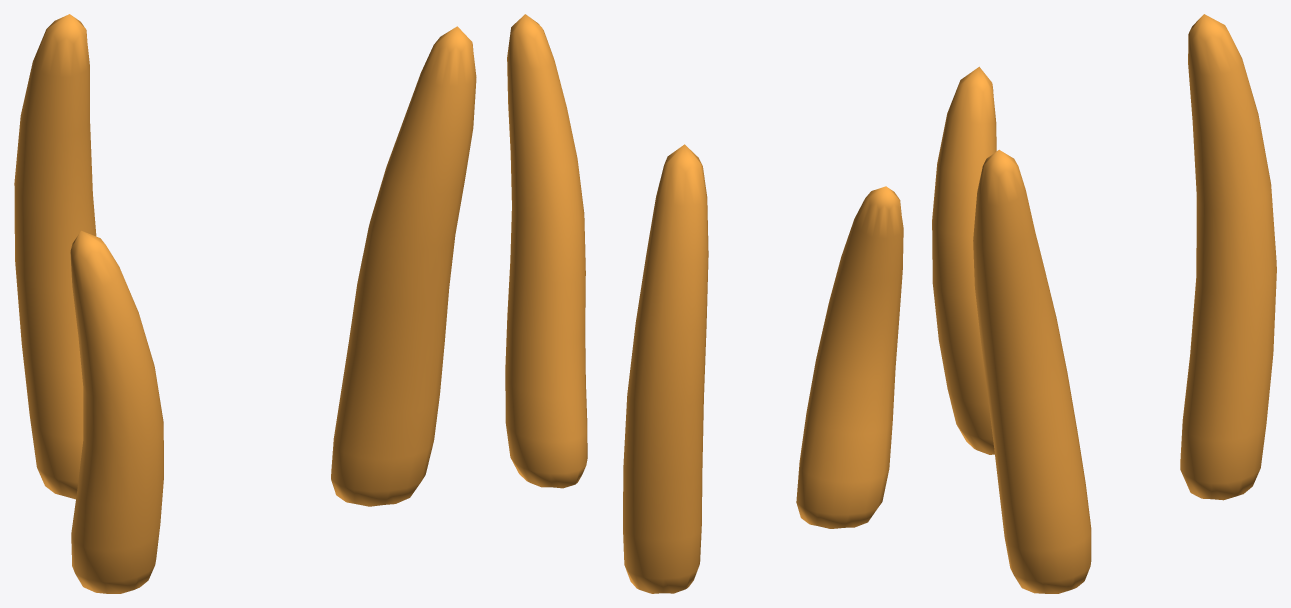
File: Spikes_01.fbx
3 renders of one model, left to right at view 1: azimuth 30°, elevation 25°; view 2: azimuth 150°, elevation 25°; view 3: azimuth 270°, elevation 25°, orthographic. The views are drawn at different scales.
Visible parts, largest first — view 1: Spikes_01_LOD0; view 2: Spikes_01_LOD0; view 3: Spikes_01_LOD0.
Boxes of the visible parts, x1,y1,x2,y2 form: Spikes_01_LOD0: [14, 14, 476, 593]; Spikes_01_LOD0: [505, 14, 903, 593]; Spikes_01_LOD0: [932, 14, 1276, 593].
Size of what is drawn, in the model's own units: 414 by 467 by 309.
